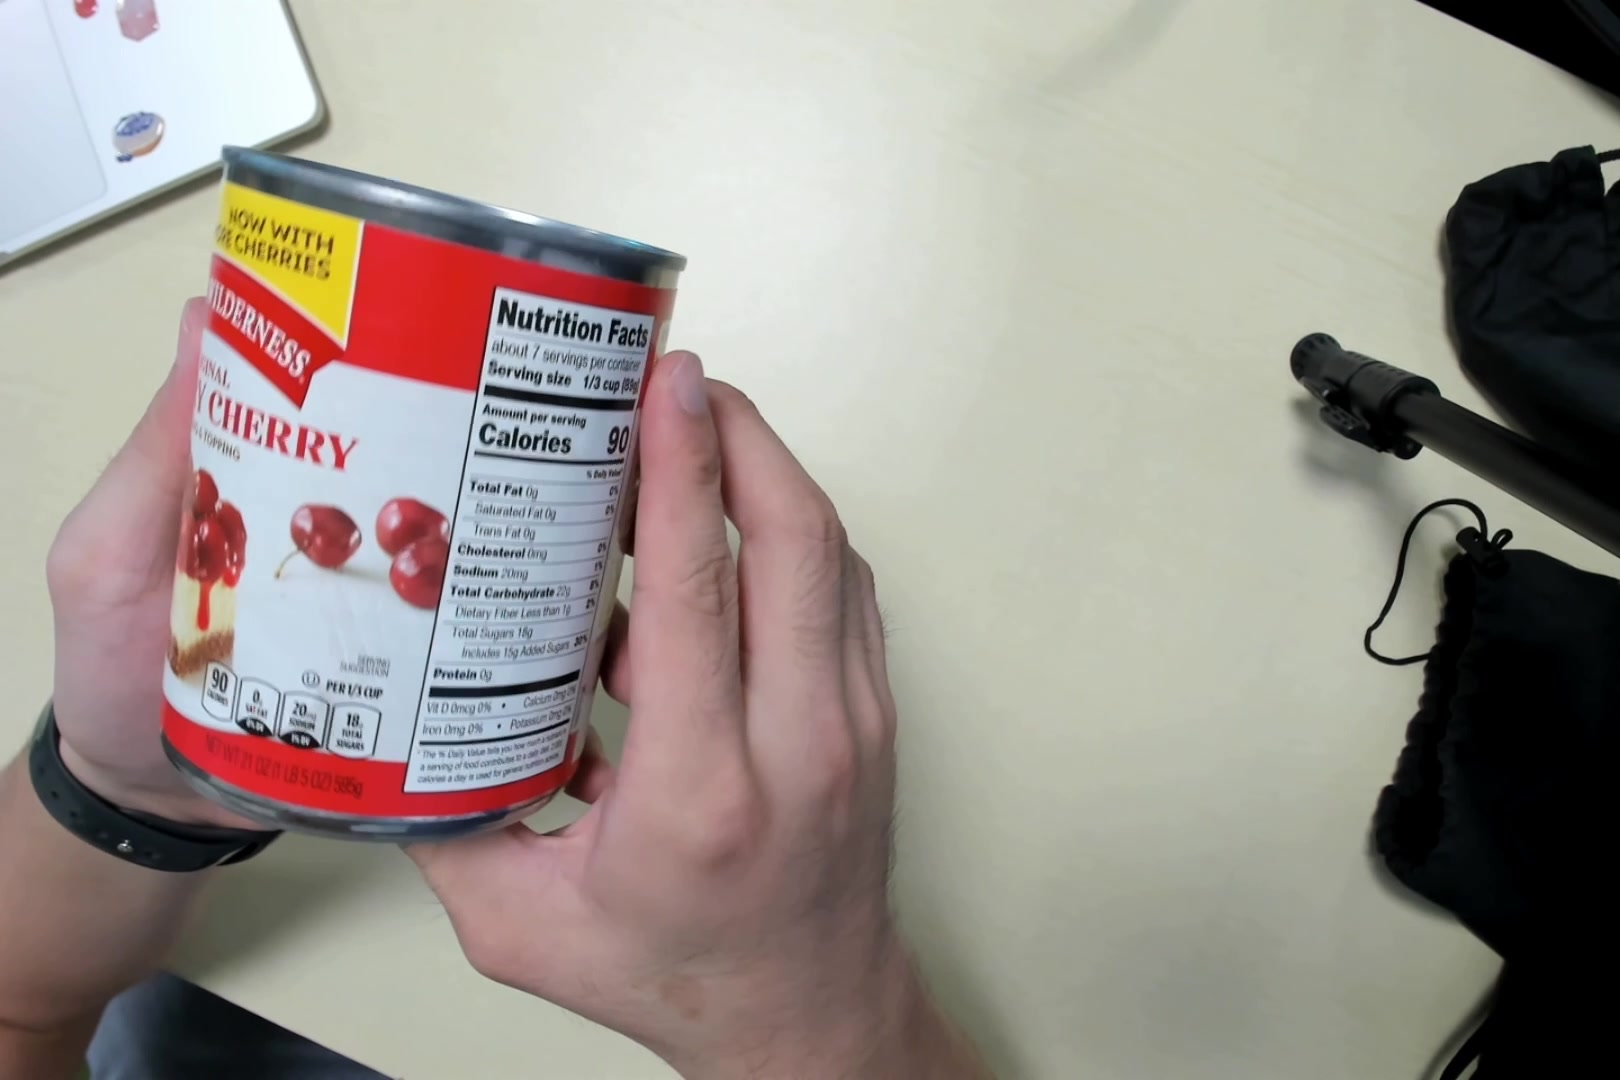OtherBakingNeeds_500-599g_NonHalal_NonHealthy: (174, 165, 670, 846)
